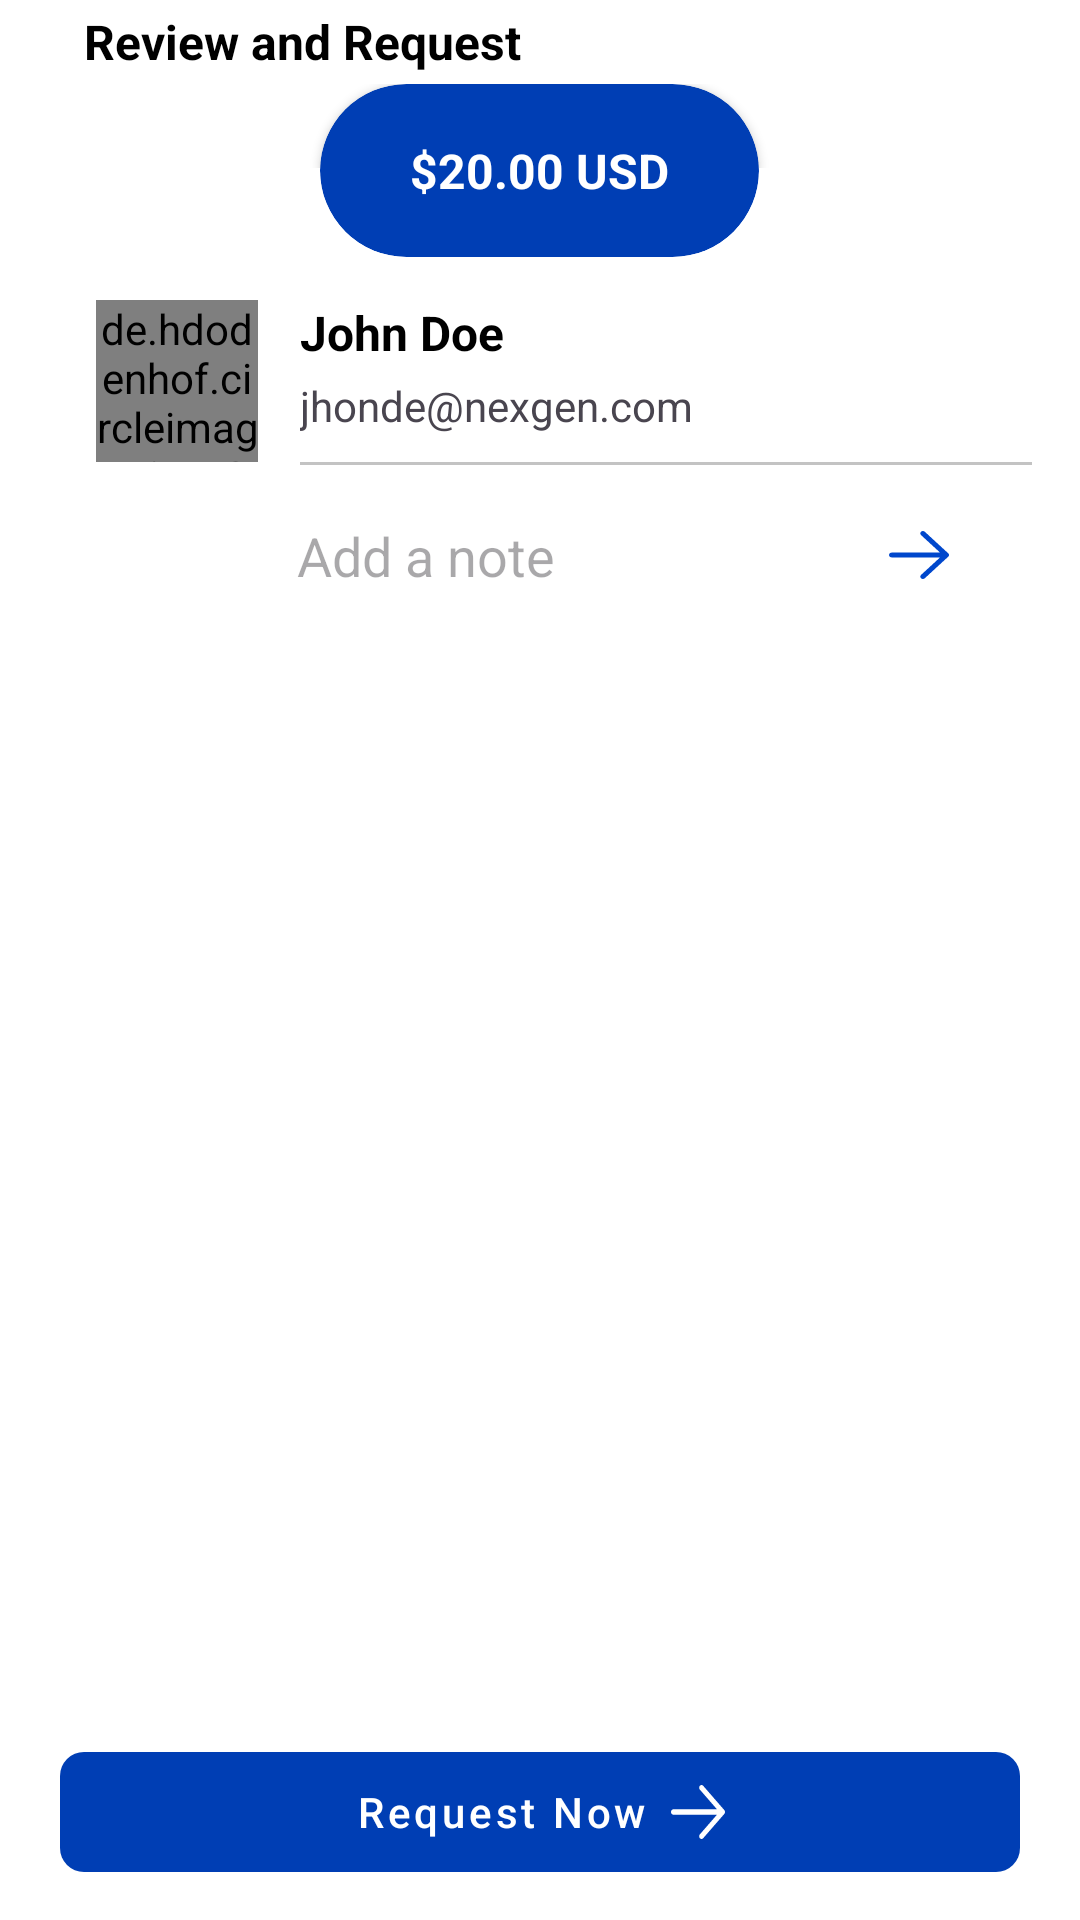

Screen size 1080 x 1920. Icon name, then its center in pixels as (x=x, y=y):
right: (x=919, y=555)
